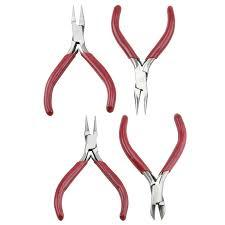pliers: (42, 2, 115, 116), (52, 114, 128, 220), (116, 114, 186, 219), (110, 3, 175, 114)
